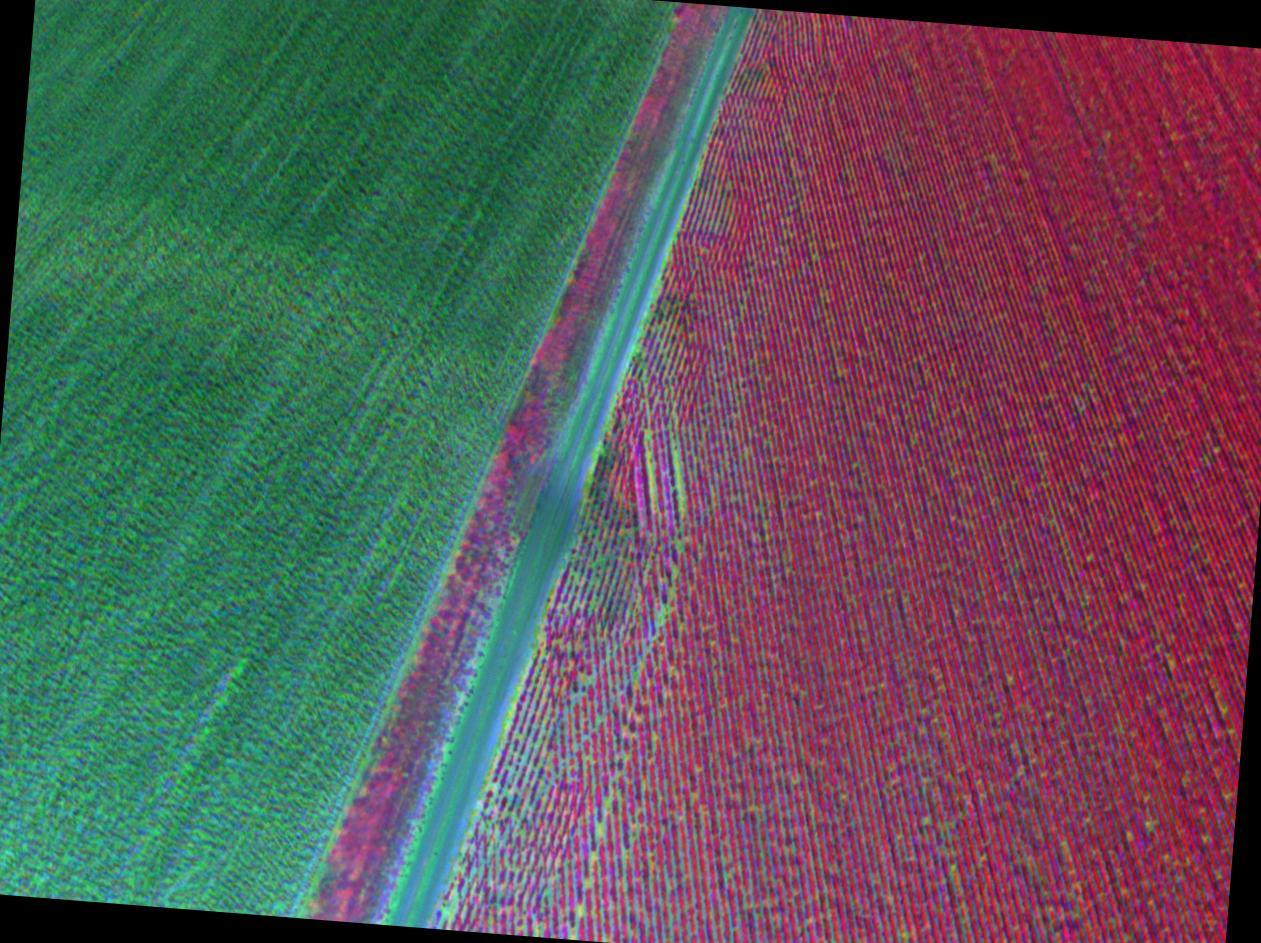dc: (923, 817, 930, 824), (674, 567, 681, 573), (667, 591, 674, 597), (656, 614, 663, 620), (678, 543, 683, 550)
